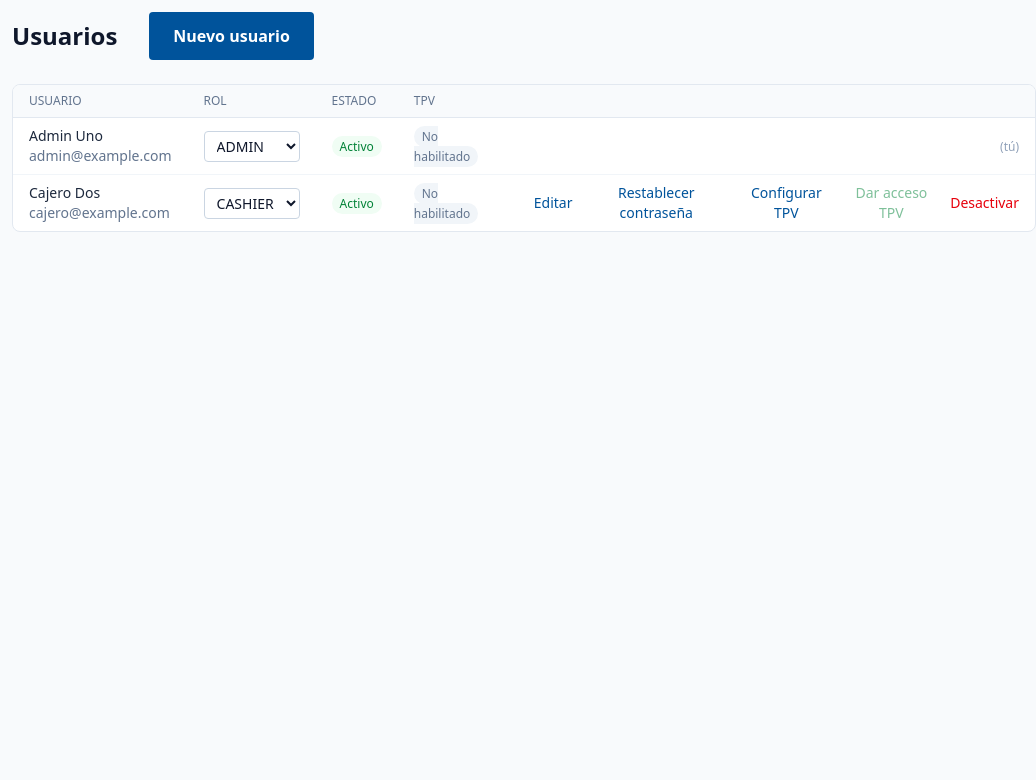
Test: UsersPage › creates a user with the chosen role
Expected: the text "Admin Uno" is shown, [29,126,103,145]
Step 1. Click the button "Nuevo usuario" → click(232, 36), box [149,12,314,60]
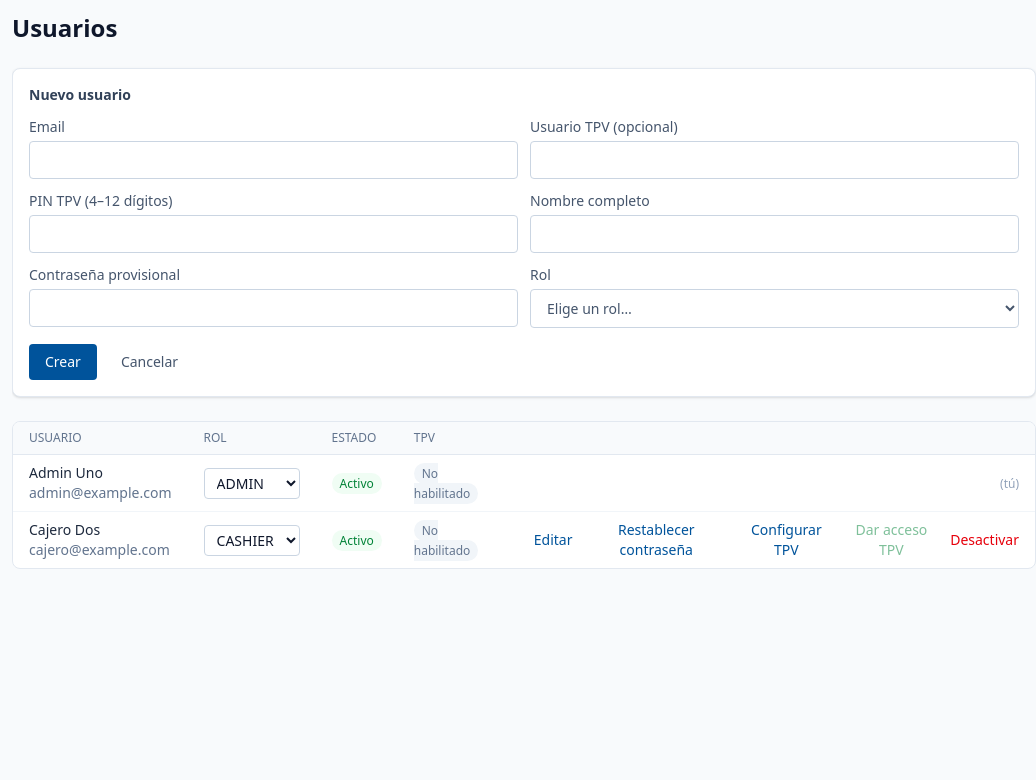
Step 2. Type "nuevo@example.com" into the field labelled "Email" → (274, 160), box [29,141,518,179]
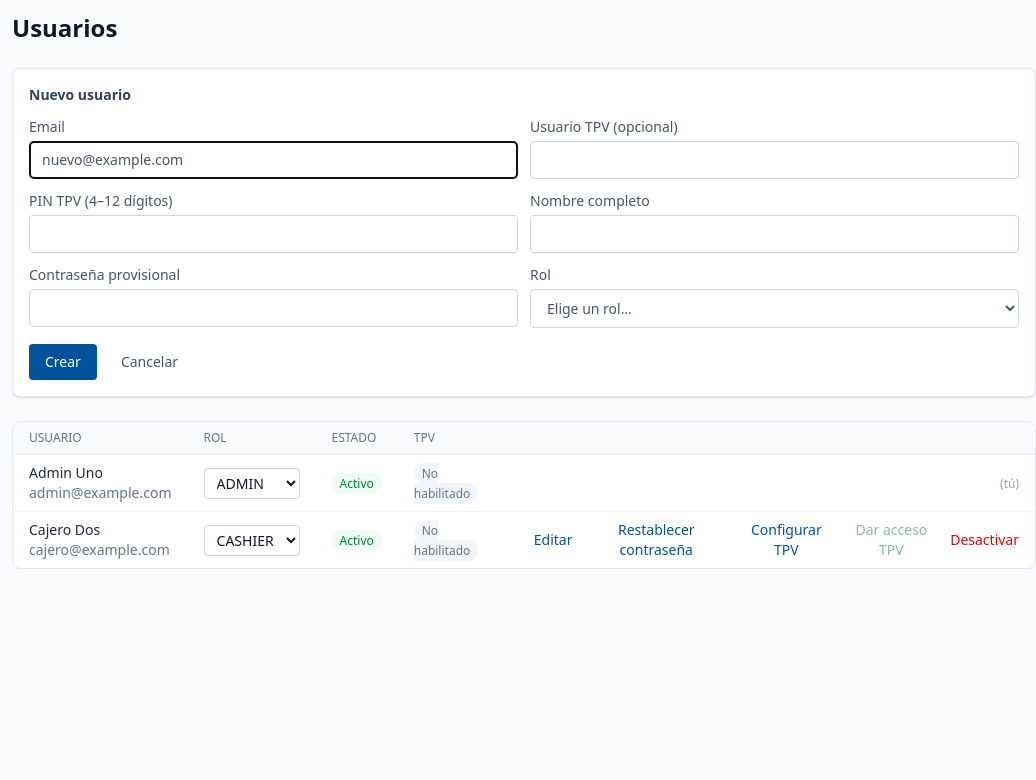
Step 3. Type "Nuevo Usuario" into the field labelled "Nombre completo" → (774, 234), box [530,215,1019,253]
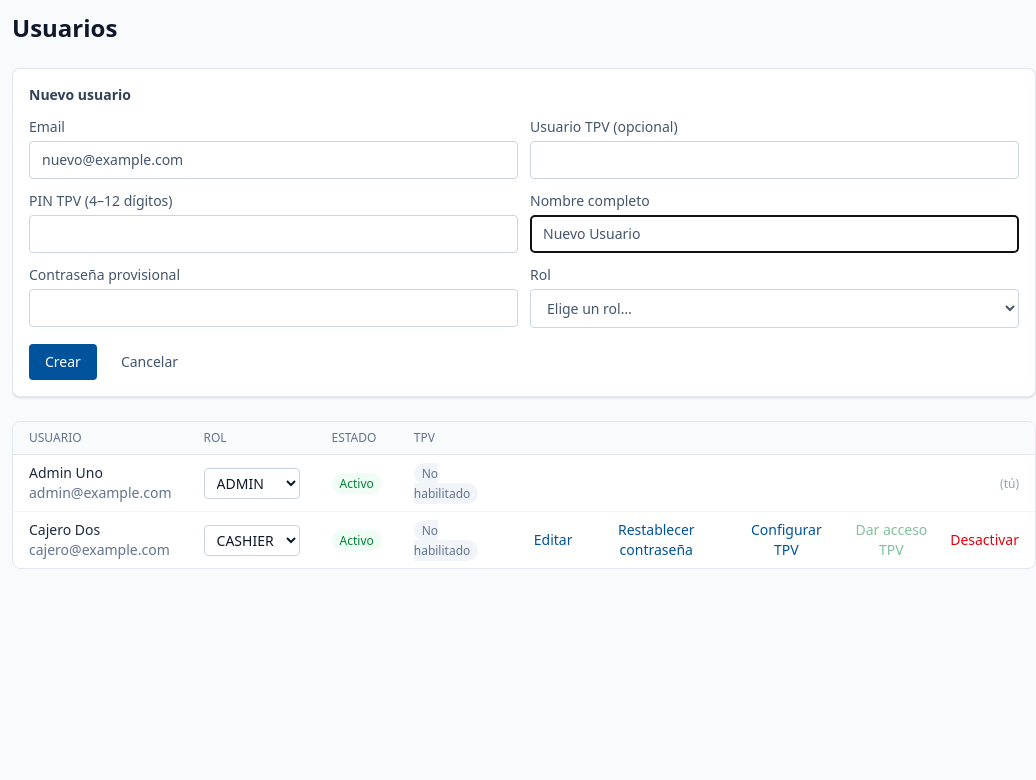
Step 4. Type "una-clave-larga" into the field labelled "Contraseña provisional" → (274, 308), box [29,289,518,327]
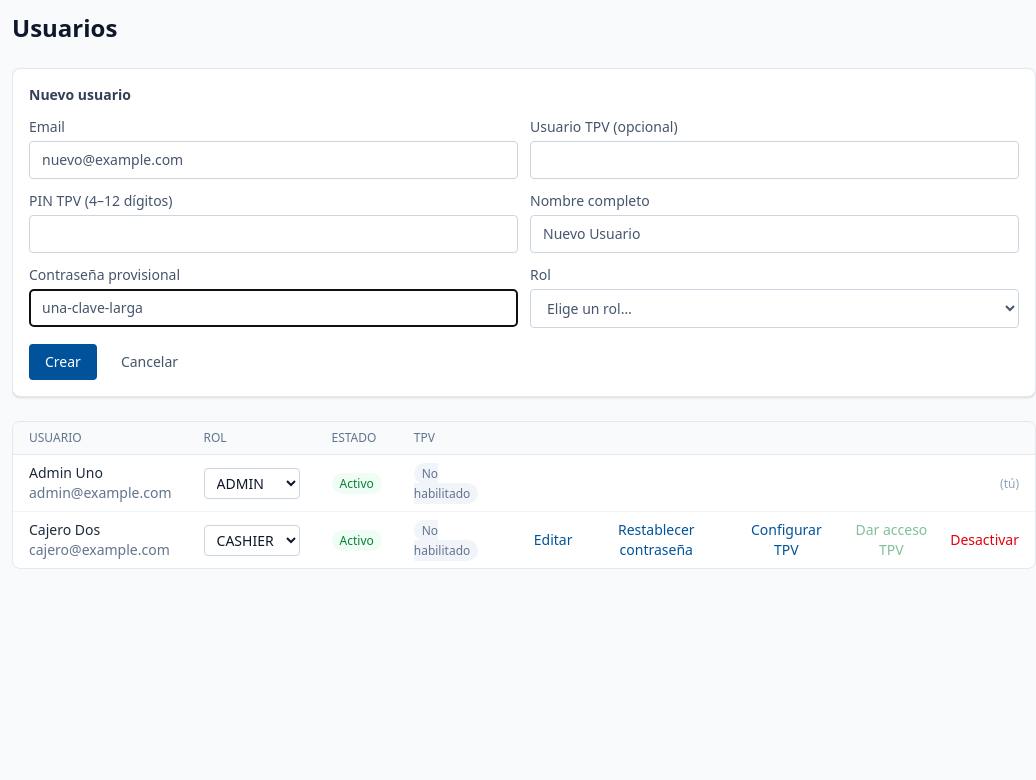
Step 5. Select "CASHIER" in the dropdown labelled "Rol" → (774, 308), box [530,289,1019,328]
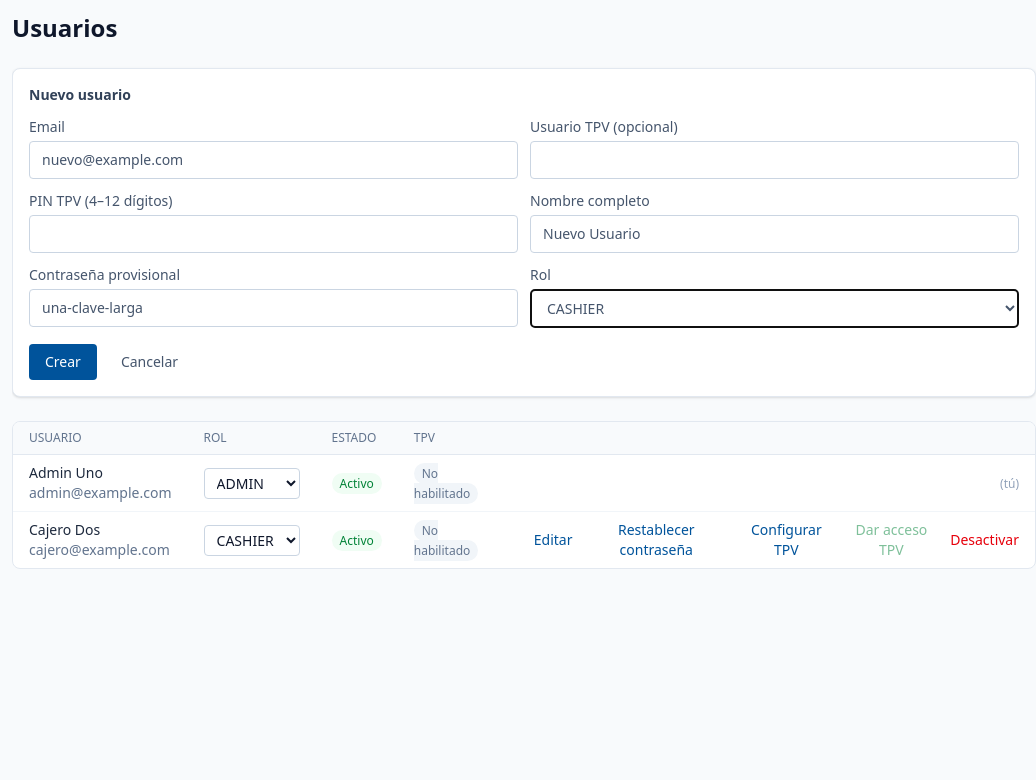
Step 6. Click the button "Crear" → click(63, 362), box [29,344,97,380]
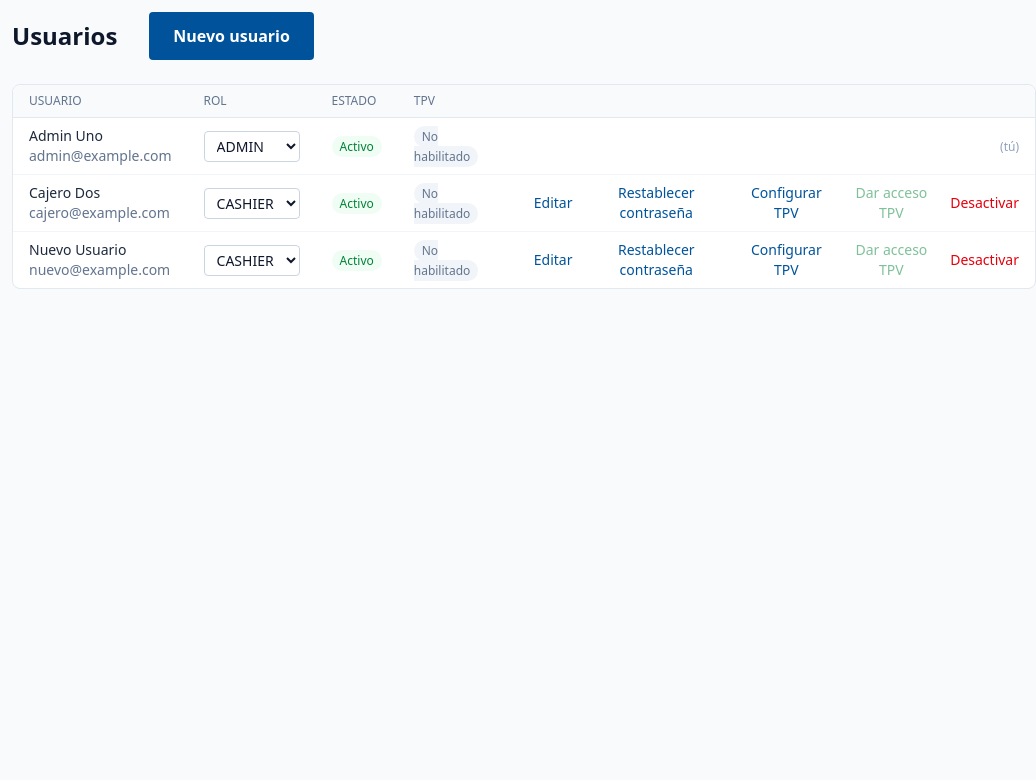
Expected: the text "Nuevo Usuario" is shown, [29,240,126,259]
